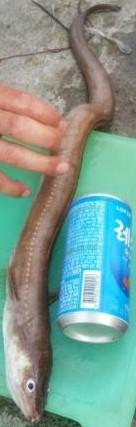fish: (5, 6, 130, 418)
